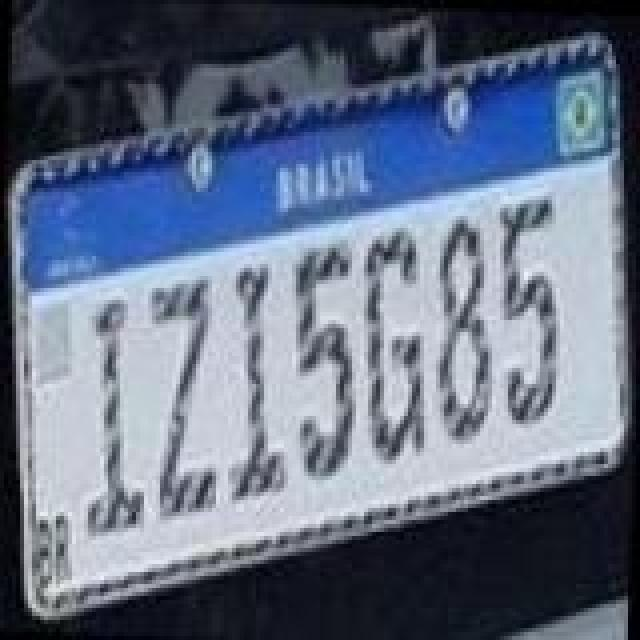5: (286, 230, 362, 478), (488, 190, 564, 426)
8: (426, 210, 498, 446)
G: (356, 216, 432, 464)
I: (82, 294, 154, 542), (224, 260, 296, 508)
Z: (142, 270, 226, 526)
